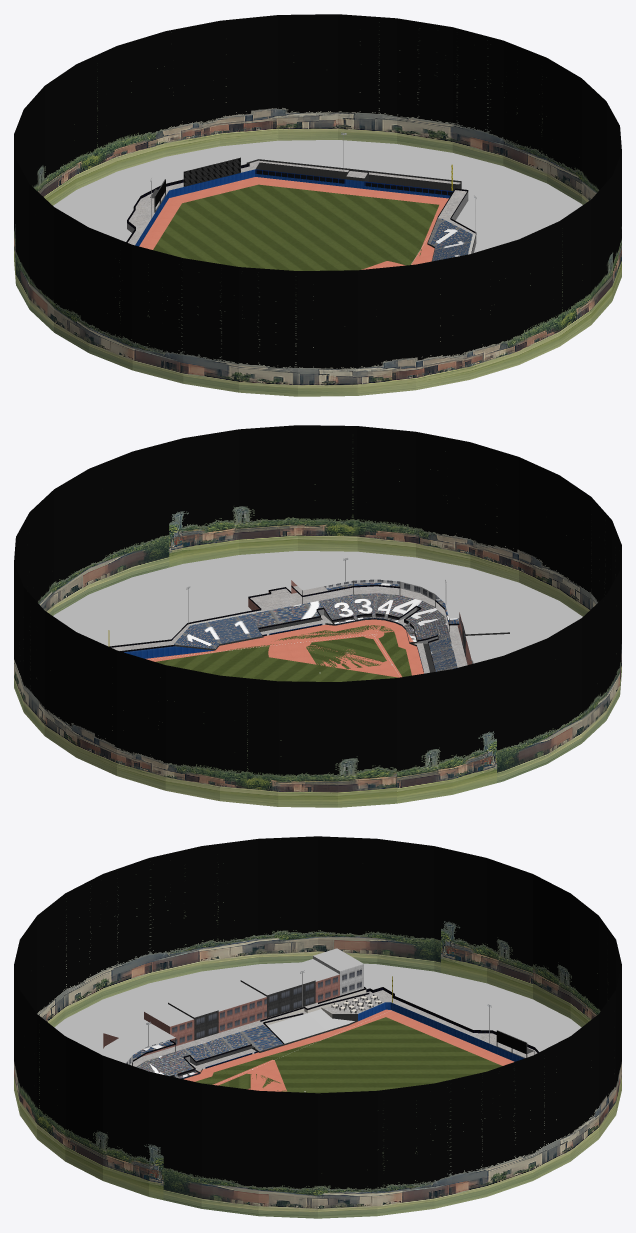
The model's file is wilson_stadium.obj.
3 renders of one model, top to bottom at view 1: azimuth 30°, elevation 25°; view 2: azimuth 150°, elevation 25°; view 3: azimuth 270°, elevation 25°, orthographic.
Parts seen in each view (by area): view 1: Cube; view 2: Cube; view 3: Cube.
Boxes of the visible parts, x1,y1,x2,y2 form: Cube: [14, 14, 621, 396]; Cube: [14, 425, 621, 807]; Cube: [14, 836, 621, 1218].
Bounding box in the file's own units: 221 × 50.34 × 221.
